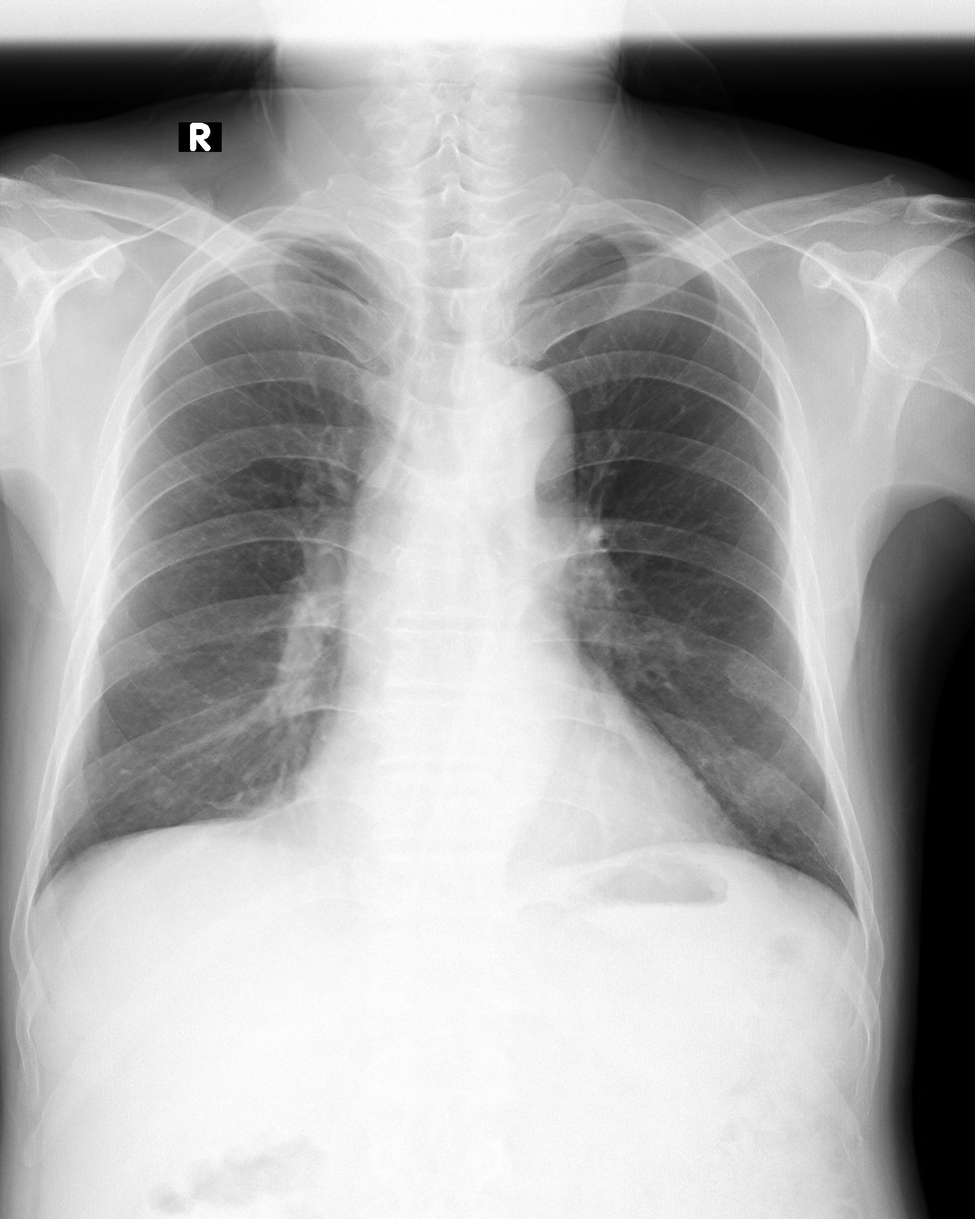Aortic enlargement: (451, 364, 576, 515)
Cardiomegaly: (292, 738, 771, 903)
Pleural thickening: (552, 243, 581, 259)
